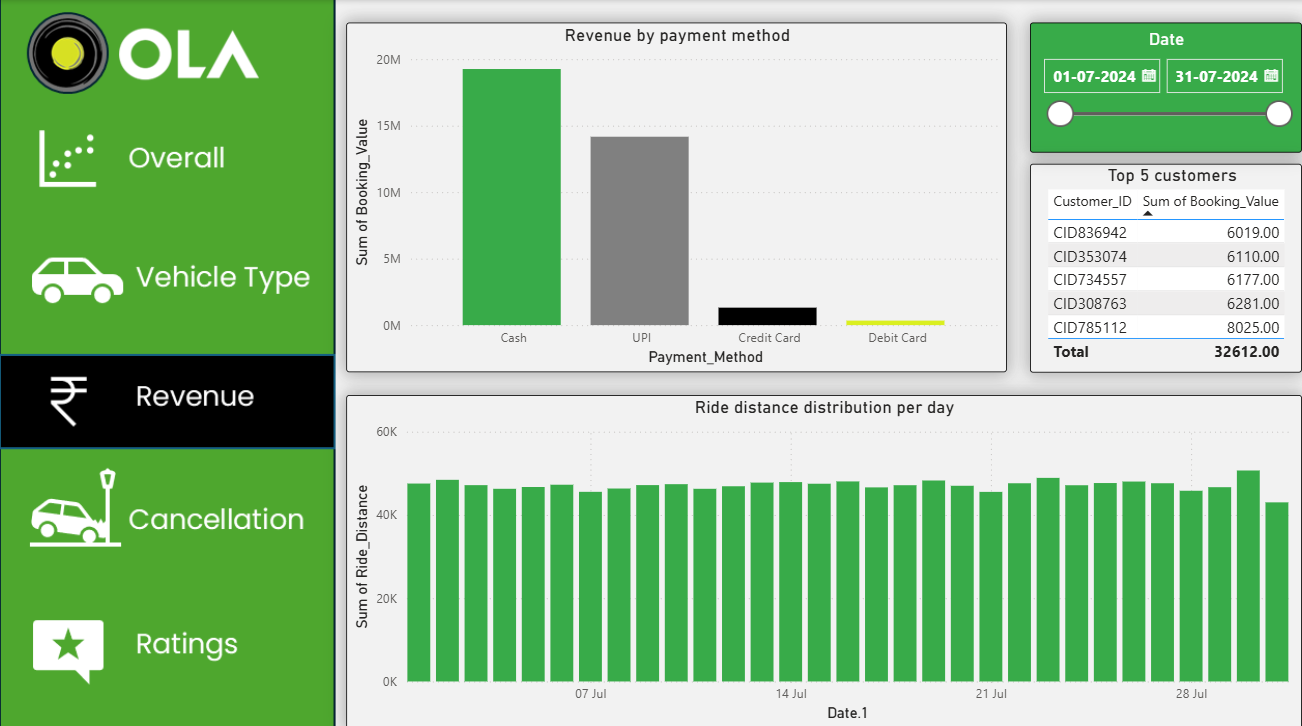

What the dashboard file says about the page in this screenshot:
{"tool":"powerbi","page":{"name":"Revenue","canvas":[1280,720],"ordinal":2},"visuals":[{"type":"actionButton","box":[0,225.6,322.1,90.5],"z":0},{"type":"actionButton","box":[0,222,323.3,90.5],"z":1000},{"type":"actionButton","box":[0,446.4,323.3,90.5],"z":2000},{"type":"actionButton","box":[0,581.5,323.3,90.5],"z":3000},{"type":"actionButton","box":[0,102.5,323.3,90.5],"z":4000},{"type":"columnChart","title":"Revenue by payment method","fields":{"Y":["Sum(Bookings.Booking_Value)"],"Category":["Bookings.Payment_Method"]},"box":[333.8,22.1,637.7,337.7],"z":5000},{"type":"columnChart","title":"Ride distance distribution per day","fields":{"Y":["Sum(Bookings.Ride_Distance)"],"Category":["Bookings.Date.1"]},"box":[333.8,381.8,922.1,322.1],"z":6000},{"type":"slicer","title":"Date","fields":{"Values":["Bookings.Date.1"]},"box":[993.5,22.1,262.3,126],"z":7000},{"type":"tableEx","title":"Top 5 customers","fields":{"Values":["Bookings.Customer_ID","Sum(Bookings.Booking_Value)"]},"box":[993.5,158.4,262.3,201.3],"z":8000}]}

Visuals, with their boxes in screenshot pixels (x1, y1, x2, y2), scaled from the page's 1280x720 canvas onto the 1302x726 screenshot:
actionButton: (0, 227, 328, 319)
actionButton: (0, 224, 329, 315)
actionButton: (0, 450, 329, 541)
actionButton: (0, 586, 329, 678)
actionButton: (0, 103, 329, 195)
"Revenue by payment method" columnChart: (340, 22, 988, 363)
"Ride distance distribution per day" columnChart: (340, 385, 1277, 710)
"Date" slicer: (1011, 22, 1277, 149)
"Top 5 customers" tableEx: (1011, 160, 1277, 363)
